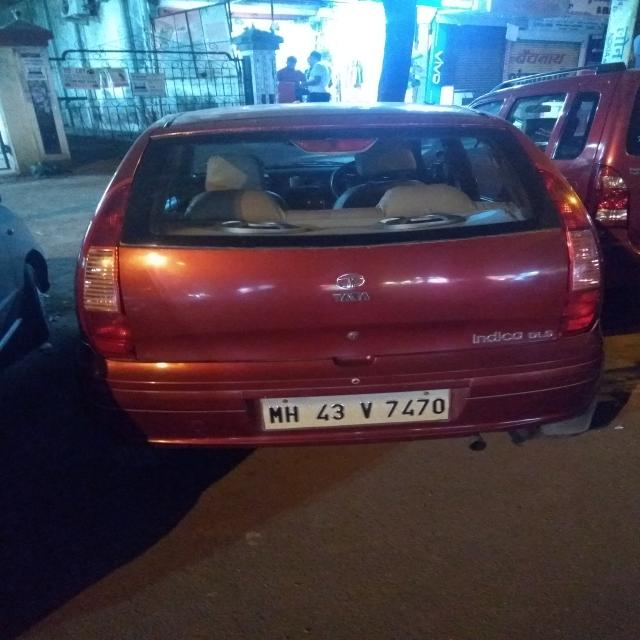Number-Plate: (264, 391, 454, 429)
